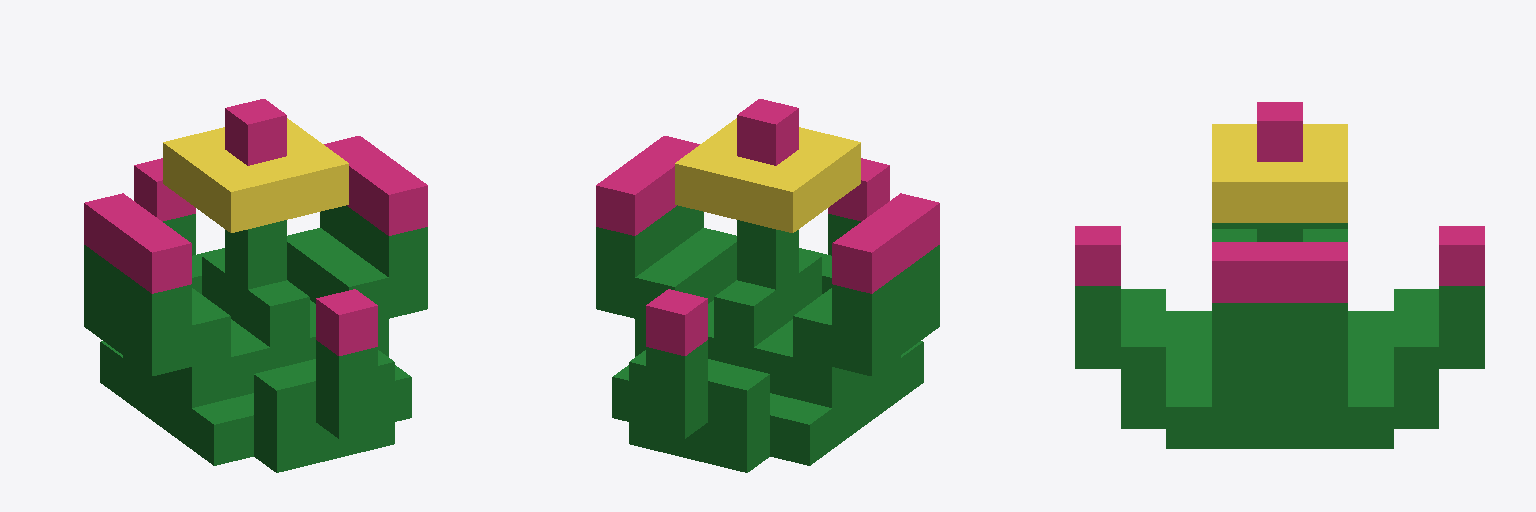
3 renders of one model, left to right at view 1: azimuth 30°, elevation 25°; view 2: azimuth 150°, elevation 25°; view 3: azimuth 270°, elevation 25°, orthographic.
Visible parts, largest first — view 1: Element #7, Element #14, Element #2, Element #5, Element #8, Element #3, Element #13, Element #1, Element #4, Element #10, Element #11, Element #12 (+1 smaller); view 2: Element #7, Element #14, Element #2, Element #6, Element #9, Element #3, Element #13, Element #1, Element #4, Element #10, Element #11, Element #12 (+1 smaller); view 3: Element #3, Element #2, Element #7, Element #8, Element #9, Element #5, Element #6, Element #1, Element #4, Element #12, Element #13, Element #11 (+1 smaller).
Part boxes in pixels (left/top/right/bottom): Element #7: left=163, top=118, right=348, bottom=232; Element #14: left=84, top=193, right=191, bottom=334; Element #2: left=320, top=136, right=427, bottom=276; Element #5: left=254, top=350, right=394, bottom=472; Element #8: left=316, top=289, right=377, bottom=438; Element #3: left=100, top=341, right=411, bottom=465; Element #13: left=84, top=286, right=230, bottom=375; Element #1: left=287, top=228, right=427, bottom=320; Element #4: left=123, top=300, right=388, bottom=407; Element #10: left=202, top=251, right=309, bottom=347; Element #11: left=225, top=220, right=286, bottom=289; Element #12: left=225, top=99, right=286, bottom=165; Element #7: left=675, top=118, right=860, bottom=232; Element #14: left=832, top=193, right=939, bottom=334; Element #2: left=596, top=136, right=703, bottom=276; Element #6: left=629, top=350, right=769, bottom=472; Element #9: left=646, top=289, right=707, bottom=438; Element #3: left=612, top=341, right=923, bottom=465; Element #13: left=793, top=286, right=939, bottom=375; Element #1: left=596, top=228, right=736, bottom=320; Element #4: left=635, top=300, right=900, bottom=407; Element #10: left=714, top=251, right=821, bottom=347; Element #11: left=737, top=220, right=798, bottom=289; Element #12: left=737, top=99, right=798, bottom=165; Element #3: left=1166, top=311, right=1393, bottom=448; Element #2: left=1212, top=242, right=1347, bottom=343; Element #7: left=1212, top=124, right=1347, bottom=222; Element #8: left=1075, top=226, right=1120, bottom=368; Element #9: left=1439, top=226, right=1484, bottom=368; Element #5: left=1121, top=289, right=1165, bottom=428; Element #6: left=1394, top=289, right=1438, bottom=428; Element #1: left=1212, top=344, right=1347, bottom=384; Element #4: left=1212, top=385, right=1347, bottom=406; Element #12: left=1257, top=102, right=1302, bottom=161; Element #13: left=1212, top=229, right=1347, bottom=241; Element #11: left=1257, top=223, right=1302, bottom=241.
Size of the model in its own units: 1.12 by 1.12 by 1.44.
1 materials, 1 textured.